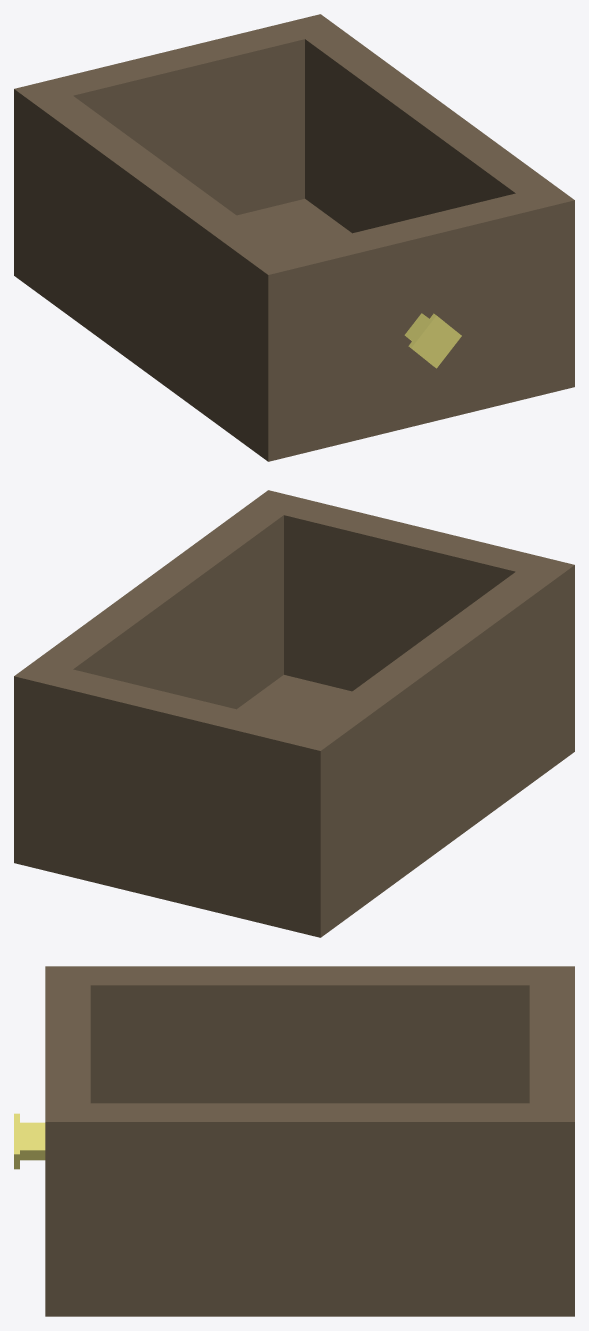
File: Itr_Bed_Bunk2_Drawer1_03.FBX
The picture shows the model from 3 angles, top to bottom: view 1: azimuth 30°, elevation 25°; view 2: azimuth 150°, elevation 25°; view 3: azimuth 270°, elevation 25°; orthographic projection. The views are drawn at different scales.
Parts seen in each view (by area): view 1: Itr_Bed_Bunk2_Drawer1_03; view 2: Itr_Bed_Bunk2_Drawer1_03; view 3: Itr_Bed_Bunk2_Drawer1_03.
Boxes of the visible parts, box(x1,y1,x2,y2) form: Itr_Bed_Bunk2_Drawer1_03: box(14, 14, 574, 461); Itr_Bed_Bunk2_Drawer1_03: box(14, 490, 574, 937); Itr_Bed_Bunk2_Drawer1_03: box(14, 966, 574, 1316).
Size of the model in its own units: 27.33 by 15.91 by 41.58.
